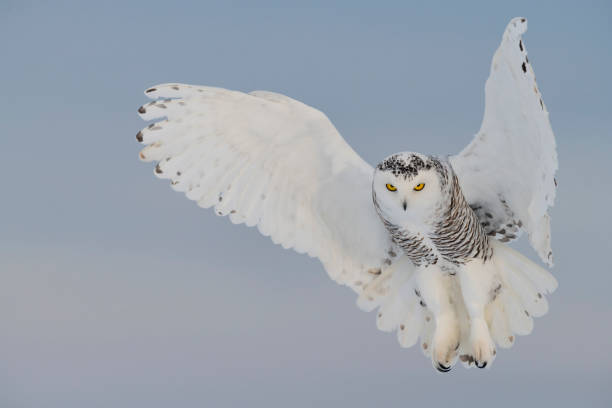Bird: (130, 14, 577, 375)
